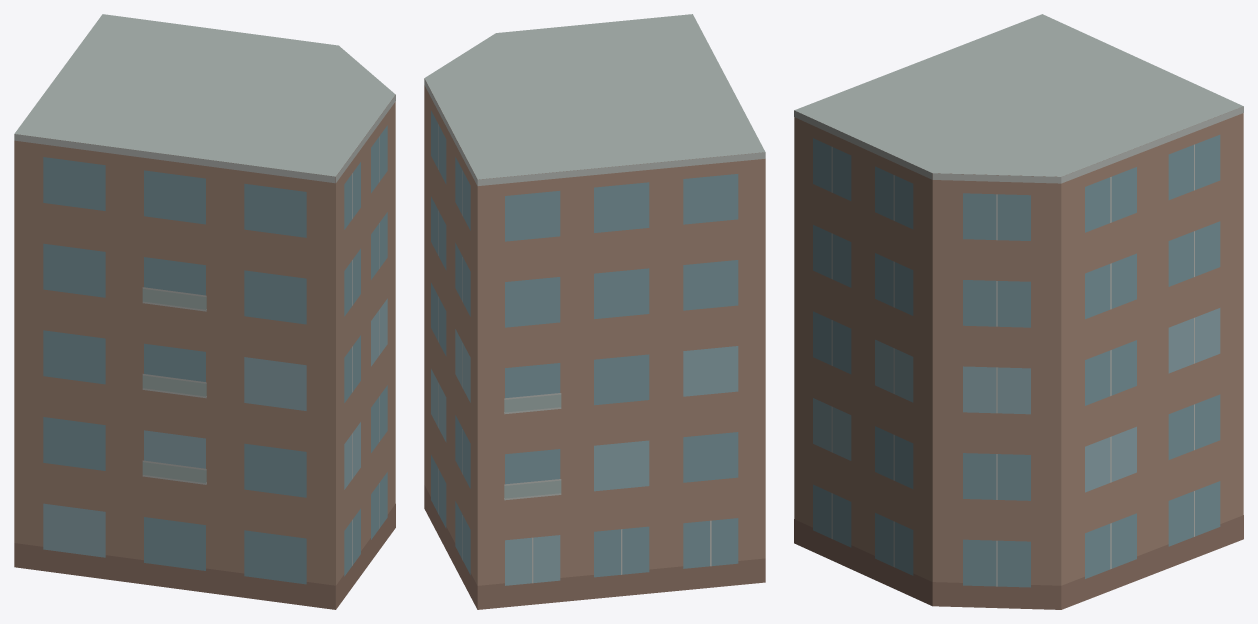
The model's file is survey-upis-32700883.glb.
3 views of the same model, side by side, from view 1: azimuth 30°, elevation 25°; view 2: azimuth 150°, elevation 25°; view 3: azimuth 270°, elevation 25° (orthographic).
Visible parts, largest first — view 1: survey-upis-32700883.tmp; view 2: survey-upis-32700883.tmp; view 3: survey-upis-32700883.tmp.
Boxes of the visible parts, x1=… form: survey-upis-32700883.tmp: x1=14, y1=14, x2=395, y2=609; survey-upis-32700883.tmp: x1=424, y1=14, x2=765, y2=609; survey-upis-32700883.tmp: x1=794, y1=14, x2=1243, y2=609.
Bounding box in the file's own units: 12.77 × 15.81 × 14.89.
